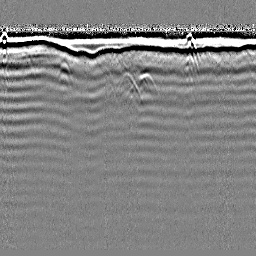cavity: (117, 70, 140, 96)
